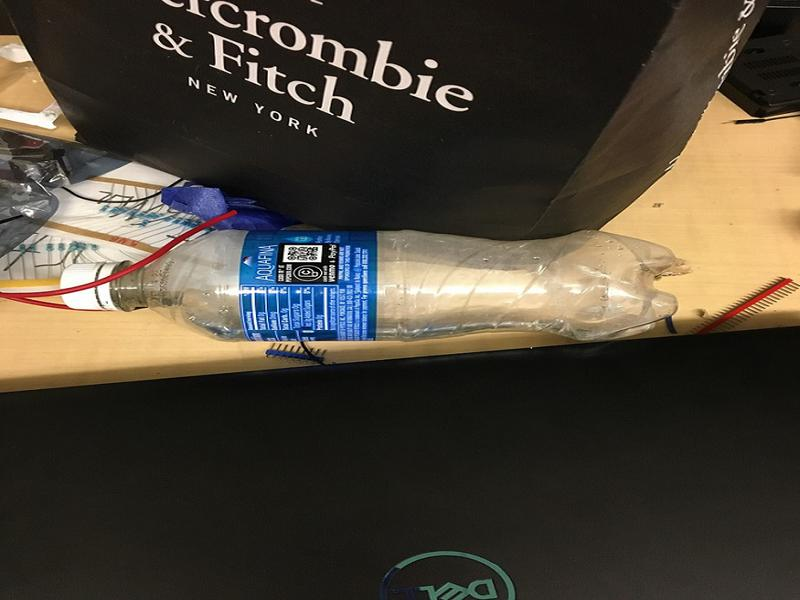bottle: (58, 229, 688, 346)
